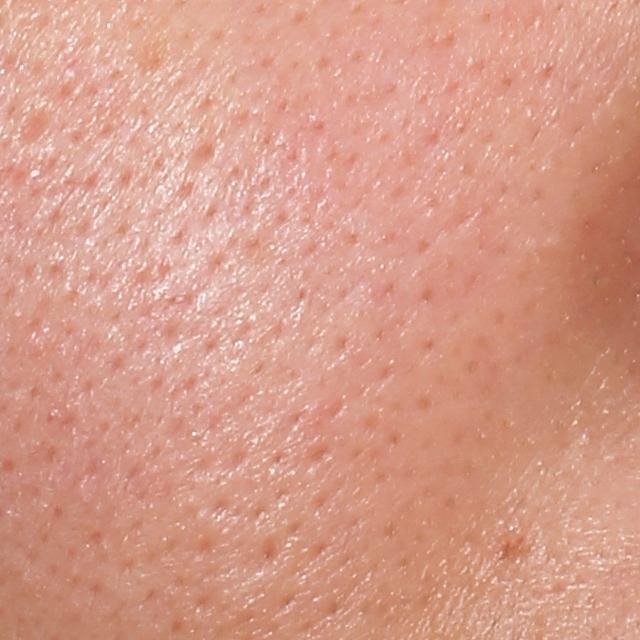atrophic_scar: (14, 100, 59, 146)
